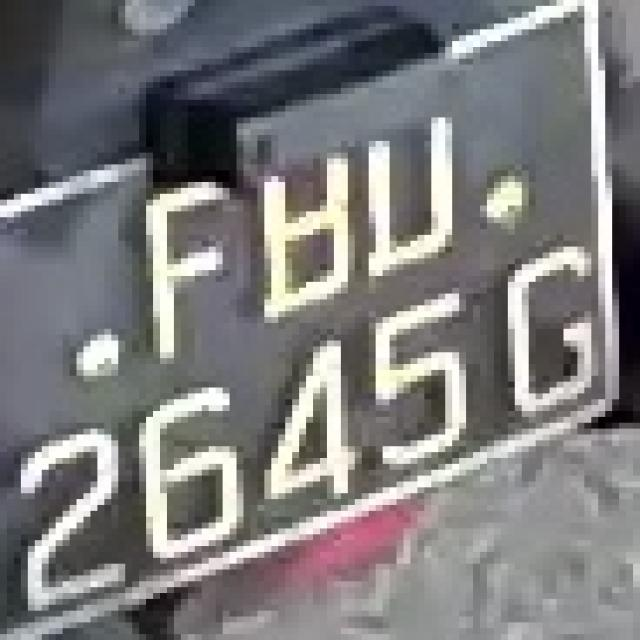2: (7, 417, 146, 628)
4: (243, 323, 389, 523)
5: (383, 282, 487, 493)
6: (119, 376, 258, 581)
B: (244, 123, 376, 317)
D: (355, 100, 459, 264)
F: (126, 147, 264, 358)
G: (480, 223, 598, 440)
